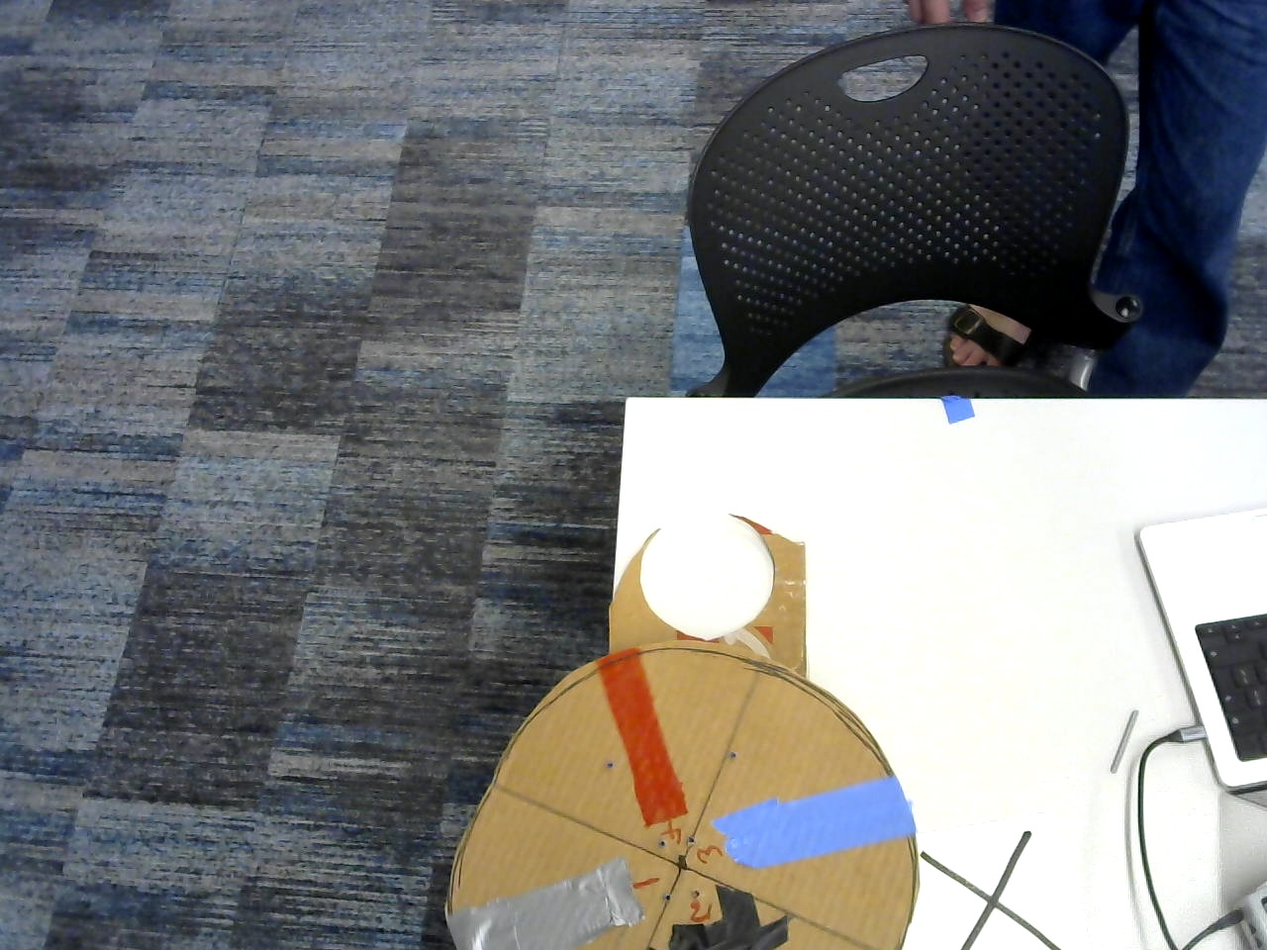black: (664, 890, 787, 950)
blue: (714, 779, 917, 870)
red: (593, 648, 690, 829)
silver: (451, 858, 649, 950)
x: (931, 832, 1049, 950)
